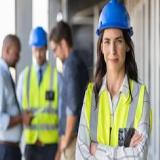Helmet: (95, 0, 134, 40), (29, 25, 47, 48)
Vest: (85, 78, 153, 160), (23, 64, 59, 145)
